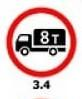road_sign: (7, 7, 77, 78)
